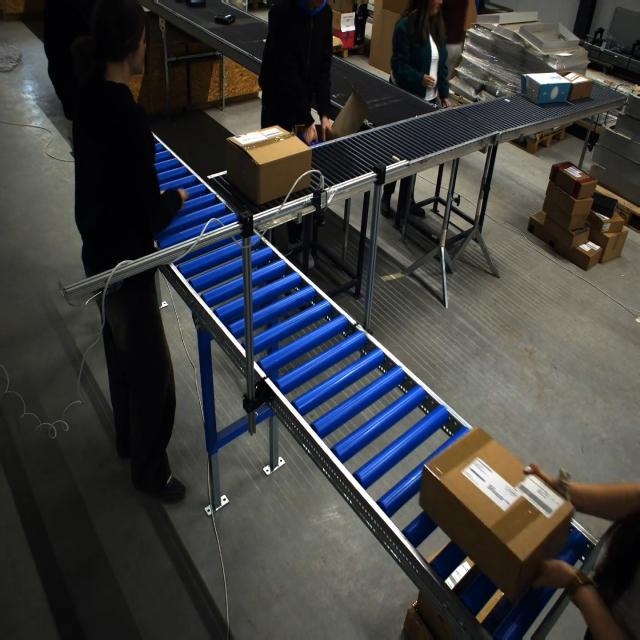box: (418, 435, 572, 602), (224, 124, 309, 204), (518, 21, 583, 55), (520, 71, 570, 105)
product: (214, 13, 235, 24), (186, 0, 207, 8)
